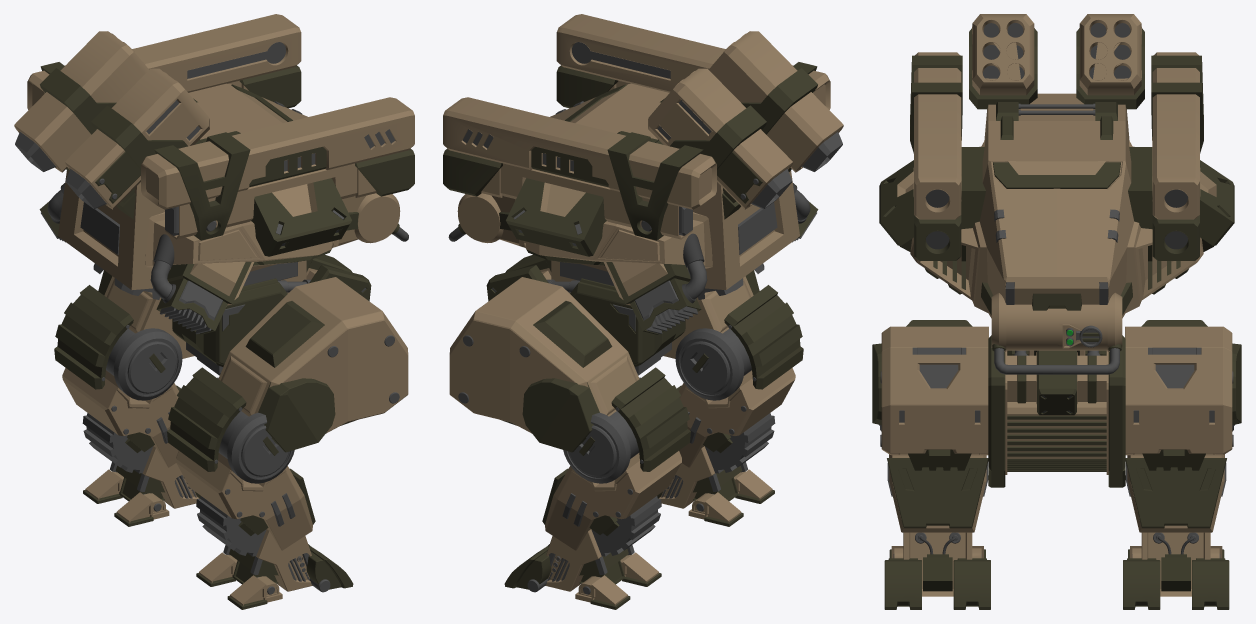
The model's file is жирный мех.fbx.
3 renders of one model, left to right at view 1: azimuth 30°, elevation 25°; view 2: azimuth 150°, elevation 25°; view 3: azimuth 270°, elevation 25°, orthographic. The views are drawn at different scales.
Visible parts, largest first — view 1: Cube.016, Cube.063, Cube.051, Cube.007, Circle, Cube.073, Cube.071, Cylinder.012, Cube.057, Cube.074, Cube.069, Cube.072 (+14 smaller); view 2: Cube.016, Cube.063, Cube.051, Cube.007, Circle, Cube.073, Cube.071, Cylinder.012, Cube.057, Cube.074, Cube.069, Cube.072 (+14 smaller); view 3: Cube.051, Cube.016, Cube.063, Cube.008, Cube.073, Cube.019, Cube.001, Cylinder.025, Cube.057, Cube.062, Cube, Cube.065 (+17 smaller).
Boxes of the visible parts, left/top/right/bottom form: Cube.016: left=98, top=270, right=408, bottom=452; Cube.063: left=27, top=14, right=414, bottom=209; Cube.051: left=58, top=83, right=365, bottom=289; Cube.007: left=62, top=367, right=312, bottom=550; Circle: left=54, top=285, right=246, bottom=471; Cube.073: left=60, top=31, right=209, bottom=146; Cube.071: left=14, top=92, right=140, bottom=219; Cylinder.012: left=106, top=328, right=294, bottom=483; Cube.057: left=251, top=178, right=351, bottom=256; Cube.074: left=39, top=183, right=254, bottom=334; Cube.069: left=40, top=62, right=250, bottom=240; Cube.072: left=40, top=68, right=187, bottom=169; Cube.016: left=449, top=270, right=759, bottom=452; Cube.063: left=443, top=14, right=830, bottom=209; Cube.051: left=492, top=83, right=799, bottom=289; Cube.007: left=545, top=367, right=795, bottom=550; Circle: left=611, top=285, right=803, bottom=471; Cube.073: left=648, top=31, right=797, bottom=146; Cube.071: left=717, top=92, right=843, bottom=219; Cylinder.012: left=563, top=328, right=751, bottom=483; Cube.057: left=506, top=178, right=606, bottom=256; Cube.074: left=603, top=183, right=818, bottom=334; Cube.069: left=607, top=62, right=817, bottom=240; Cube.072: left=670, top=68, right=817, bottom=169; Cube.051: left=910, top=93, right=1203, bottom=318; Cube.016: left=872, top=320, right=1241, bottom=455; Cube.063: left=913, top=52, right=1200, bottom=219; Cube.008: left=887, top=458, right=1226, bottom=528; Cube.073: left=972, top=14, right=1141, bottom=95; Cube.019: left=988, top=335, right=1125, bottom=487; Cube.001: left=884, top=558, right=1229, bottom=609; Cylinder.025: left=991, top=292, right=1122, bottom=351; Cube.057: left=879, top=160, right=1234, bottom=245; Cube.062: left=914, top=215, right=1199, bottom=260; Cube: left=903, top=532, right=1210, bottom=596; Cube.065: left=961, top=147, right=1152, bottom=229.
Size of what is drawn, in the model's own units: 311 by 442 by 281.
